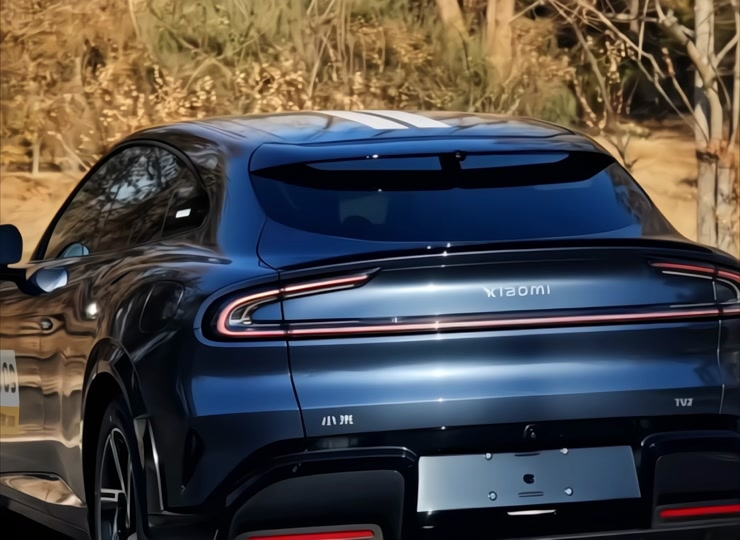other: (0, 107, 739, 540)
